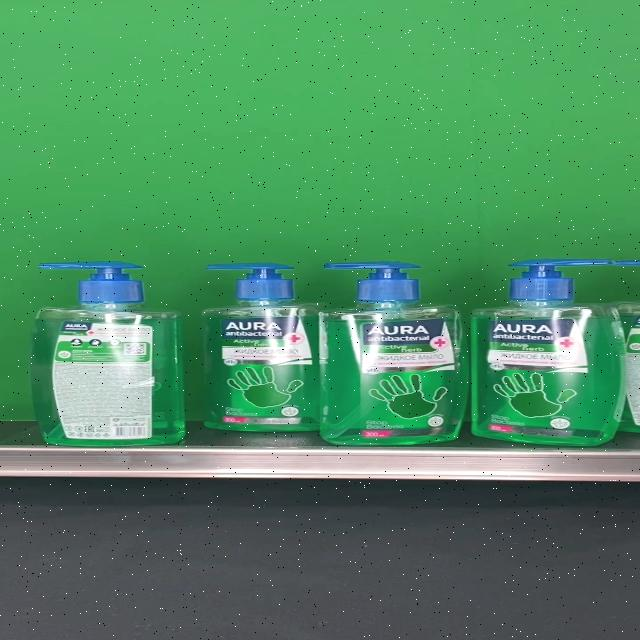Bottle: (471, 258, 626, 446), (31, 262, 187, 446), (319, 262, 470, 446), (200, 263, 330, 432)
Cap: (508, 258, 616, 300), (36, 261, 144, 301), (321, 262, 422, 300), (205, 263, 295, 299)
